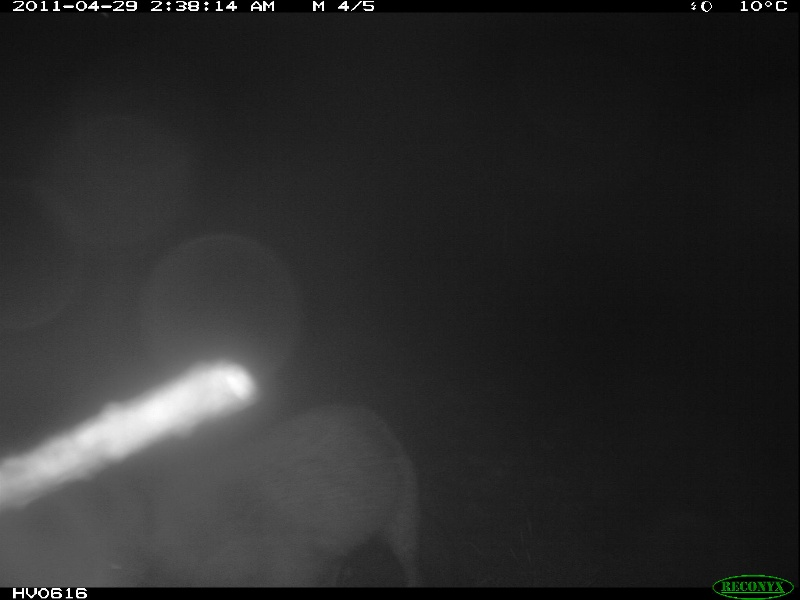fox: (60, 395, 427, 587)
